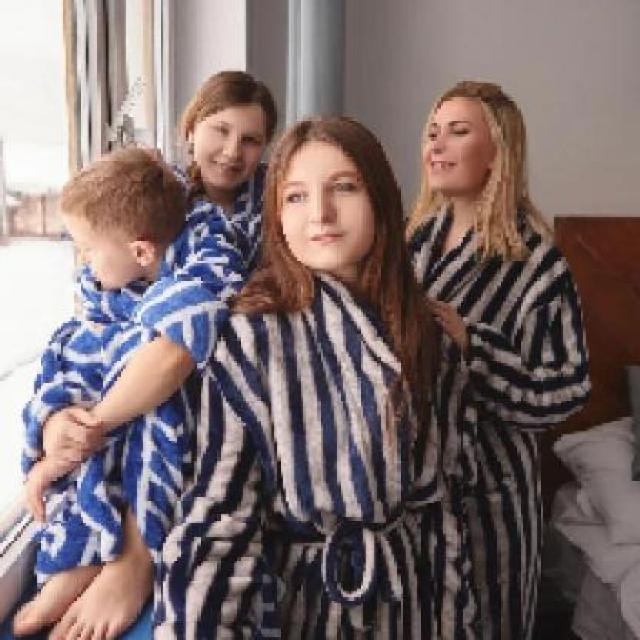child: (8, 145, 232, 638)
